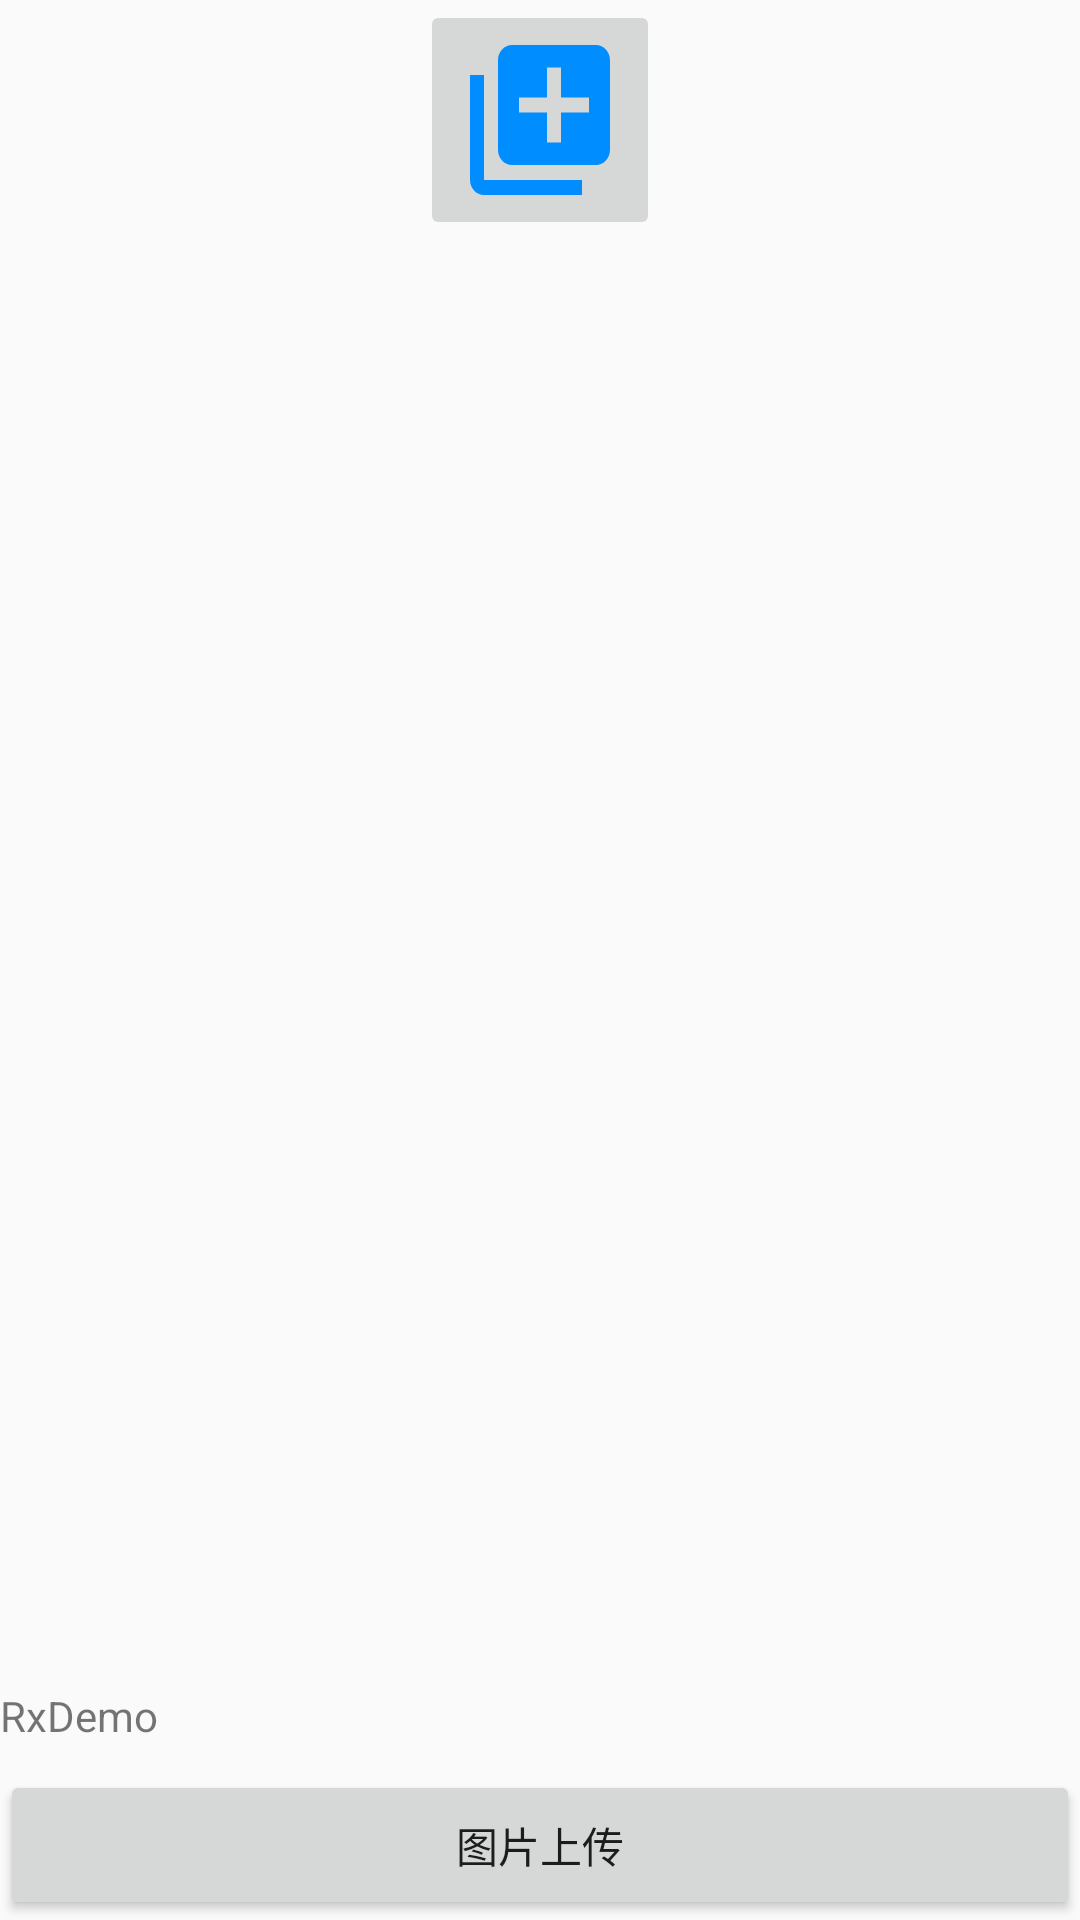

Point at icon controls on the screen. Image size 1080 × 1920, points as (x=x, y=y).
add to photos: (x=540, y=120)
